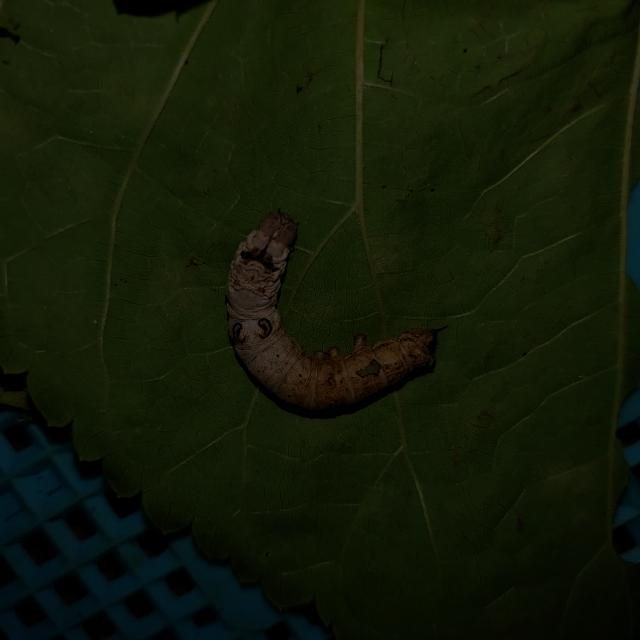Grasserie: (214, 200, 450, 437)
